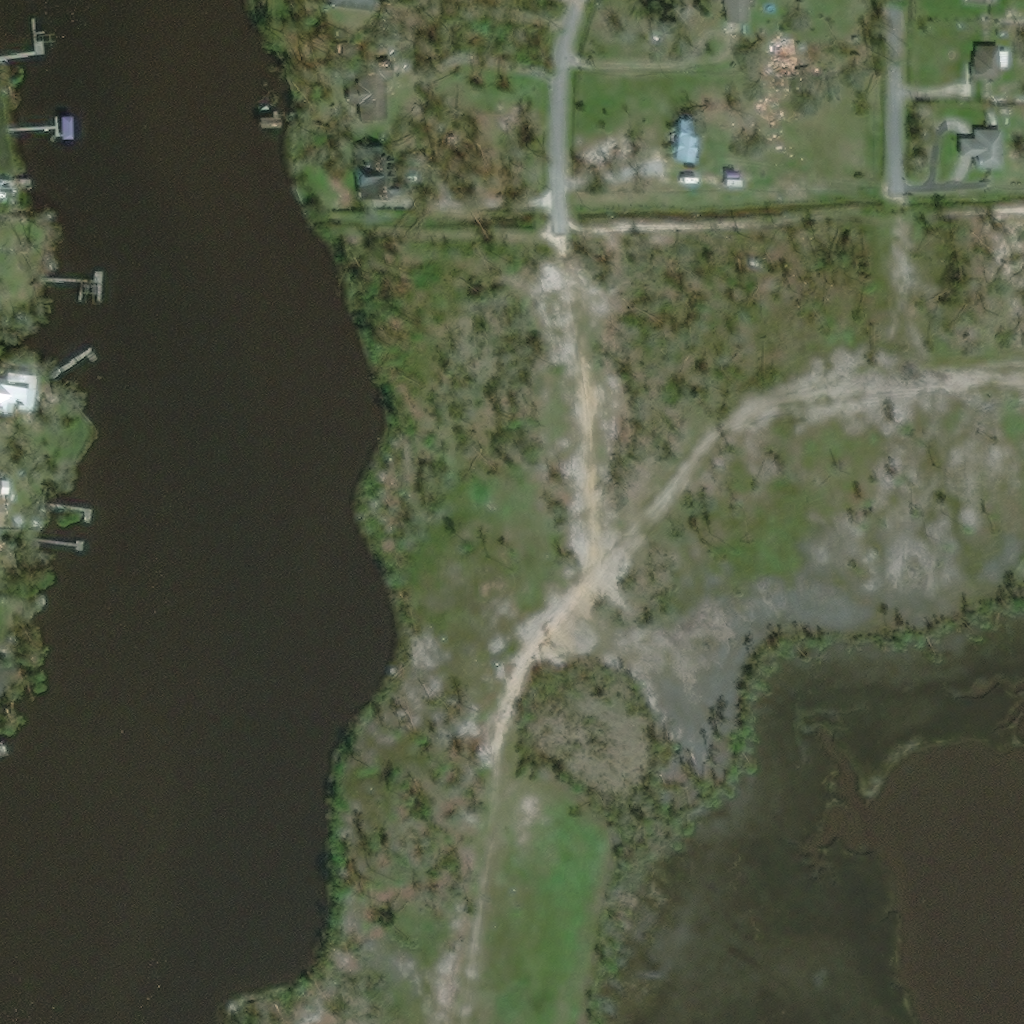destroyed: (774, 37, 787, 68)
minor_damage: (341, 59, 392, 120), (349, 141, 405, 194)
no_damage: (958, 129, 1005, 167), (971, 43, 1011, 78), (673, 116, 703, 161), (0, 370, 26, 406), (0, 177, 34, 202), (728, 0, 759, 24), (257, 112, 281, 128), (84, 282, 101, 303), (59, 114, 72, 140), (0, 478, 10, 493), (967, 0, 996, 4), (724, 168, 738, 176), (0, 511, 7, 521)
